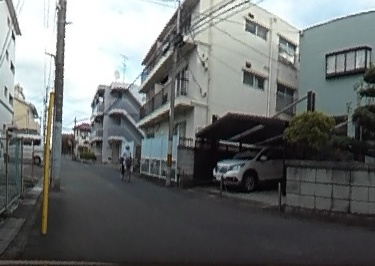person: (122, 143, 132, 173)
